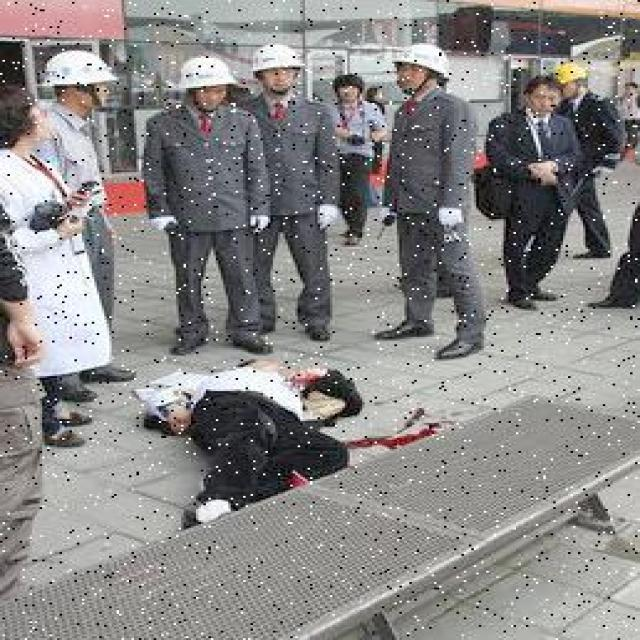fall: (139, 348, 347, 524)
